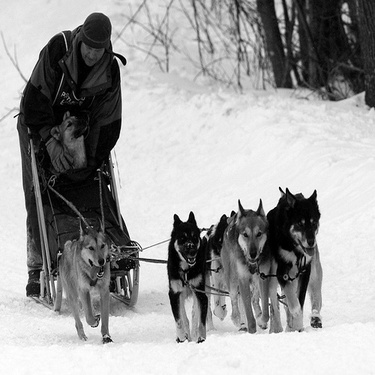dog: (261, 188, 325, 336), (49, 213, 116, 348), (213, 198, 276, 338), (161, 210, 213, 344), (266, 185, 307, 310), (203, 208, 237, 324), (43, 107, 92, 175)
